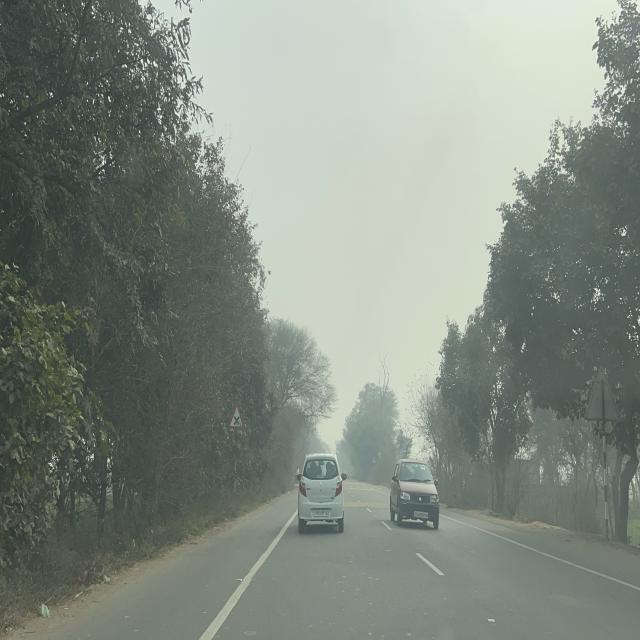CROSS_ROAD: (228, 403, 245, 430)
